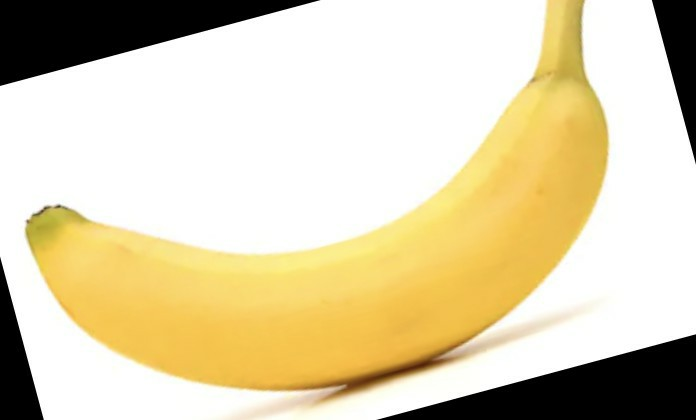fresh_banana: (32, 14, 609, 385)
